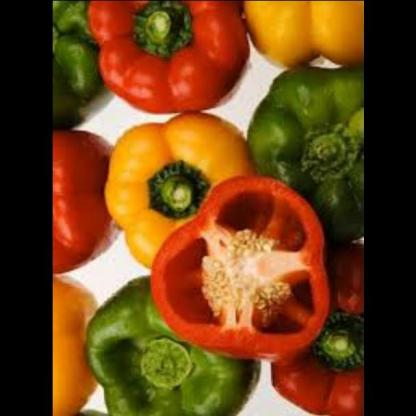bell pepper: (147, 174, 329, 369), (101, 105, 255, 270), (83, 279, 262, 416), (235, 61, 363, 232), (88, 0, 260, 118), (260, 240, 364, 409), (52, 123, 116, 279), (232, 0, 363, 66), (52, 267, 108, 416), (52, 1, 99, 143)
